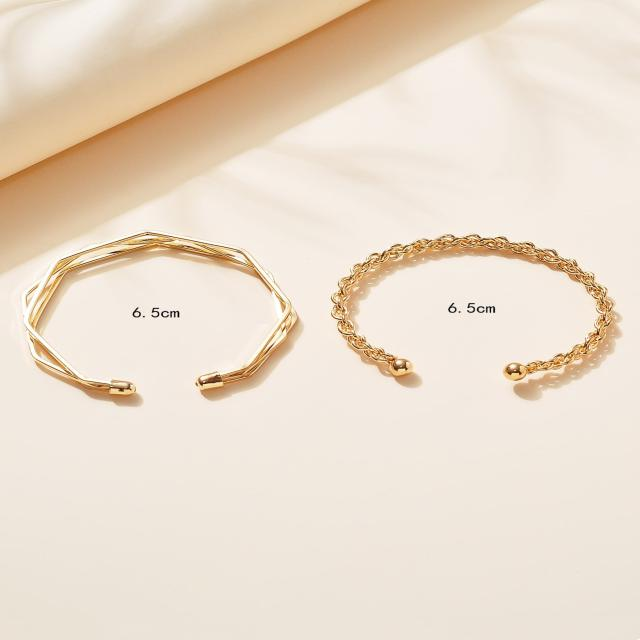bracelet: (8, 129, 312, 461), (298, 175, 640, 430)
